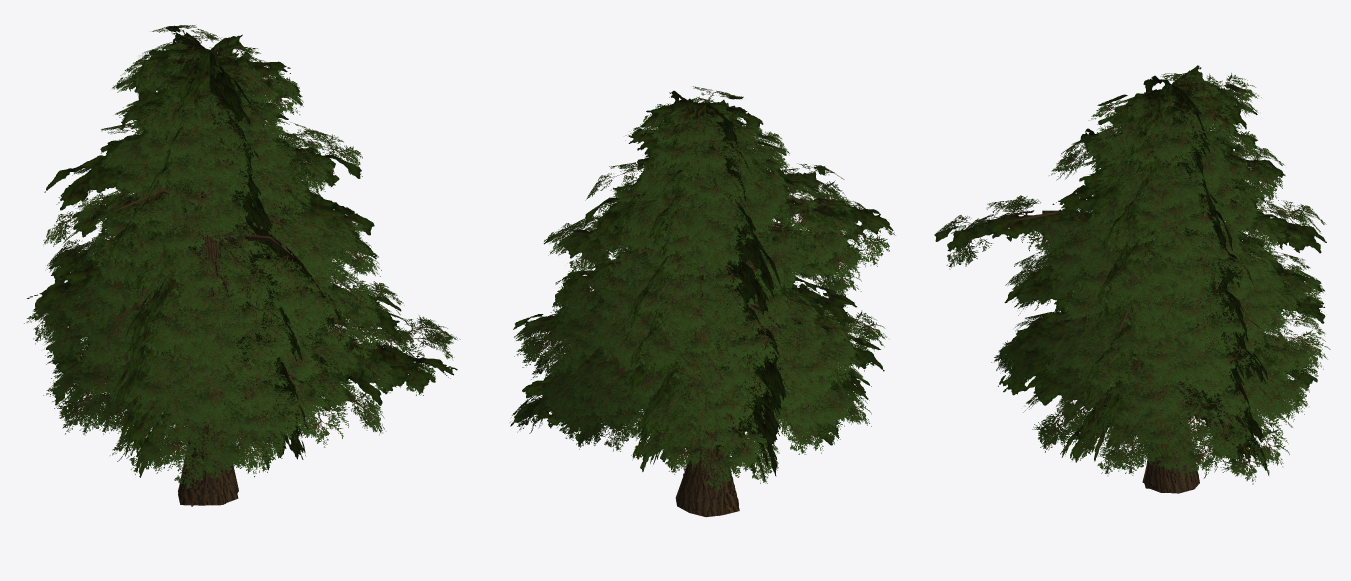
The model's file is oak.glb.
The picture shows the model from 3 angles, left to right: view 1: azimuth 30°, elevation 25°; view 2: azimuth 150°, elevation 25°; view 3: azimuth 270°, elevation 25°; orthographic projection. The views are drawn at different scales.
Parts seen in each view (by area): view 1: Oak_B, Oak_A, Oak_B_far, Oak_C, Oak_A_far, Oak_C_far; view 2: Oak_A, Oak_B, Oak_C, Oak_B_far, Oak_A_far, Oak_C_far; view 3: Oak_B, Oak_A, Oak_C, Oak_B_far, Oak_A_far, Oak_C_far.
Boxes of the visible parts, bbox=[...] form: Oak_B: bbox=[43, 25, 400, 505]; Oak_A: bbox=[24, 91, 404, 505]; Oak_B_far: bbox=[44, 26, 401, 506]; Oak_C: bbox=[79, 127, 460, 490]; Oak_A_far: bbox=[27, 95, 401, 503]; Oak_C_far: bbox=[78, 122, 457, 477]; Oak_A: bbox=[541, 139, 871, 513]; Oak_B: bbox=[552, 86, 895, 517]; Oak_C: bbox=[510, 170, 844, 483]; Oak_B_far: bbox=[561, 90, 894, 515]; Oak_A_far: bbox=[543, 143, 869, 513]; Oak_C_far: bbox=[510, 169, 848, 482]; Oak_B: bbox=[935, 70, 1295, 493]; Oak_A: bbox=[991, 121, 1326, 493]; Oak_C: bbox=[1061, 152, 1330, 484]; Oak_B_far: bbox=[934, 65, 1294, 490]; Oak_A_far: bbox=[994, 108, 1326, 490]; Oak_C_far: bbox=[1034, 149, 1324, 475].
Size of the model in its own units: 22.12 by 23.38 by 21.1.
5 materials, 5 textured.
